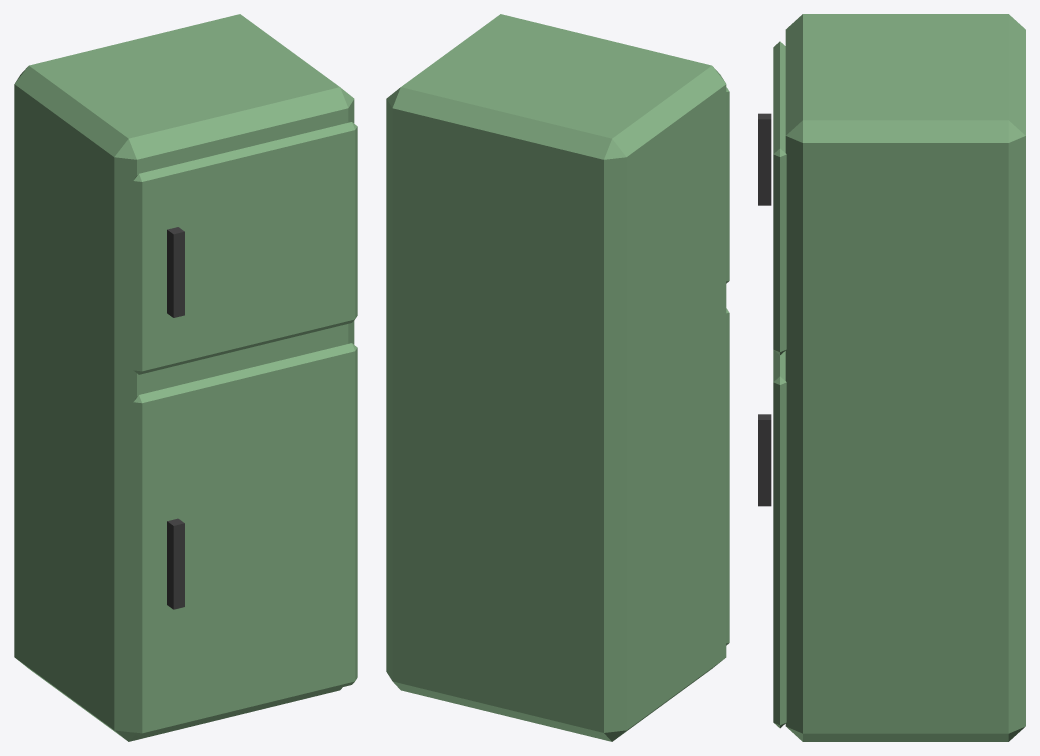
3 renders of one model, left to right at view 1: azimuth 30°, elevation 25°; view 2: azimuth 150°, elevation 25°; view 3: azimuth 270°, elevation 25°, orthographic. The views are drawn at different scales.
Visible parts, largest first — view 1: Cabinet, Door, Door.001, Handle, Handle.001; view 2: Cabinet, Door, Door.001; view 3: Cabinet, Door, Door.001, Handle, Handle.001.
Part boxes in pixels (x1,y1,x2,y2): Cabinet: (14,14,354,741); Door: (133,343,357,736); Door.001: (133,122,357,374); Handle: (167,518,184,609); Handle.001: (167,227,184,317); Cabinet: (386,14,726,741); Door: (726,308,729,645); Door.001: (726,87,729,283); Cabinet: (785,14,1025,741); Door: (773,350,786,728); Door.001: (773,41,786,354); Handle: (758,414,771,506); Handle.001: (758,113,771,205).
Bounding box in the file's own units: 75 × 180 × 70.25.
